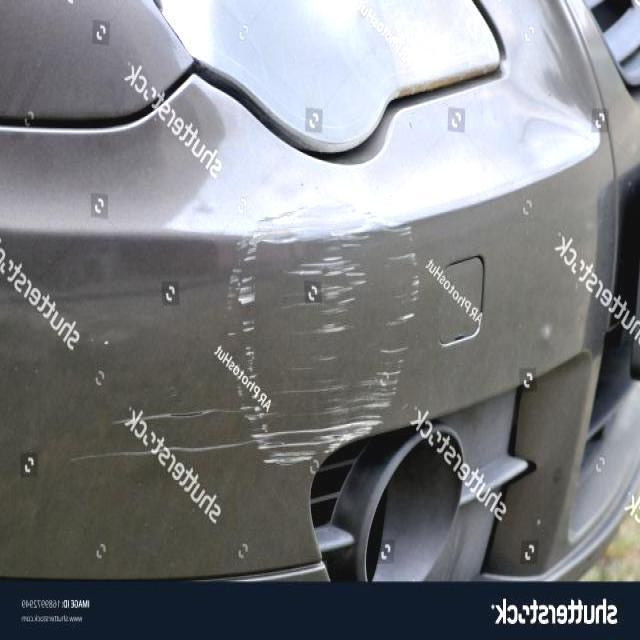minor: (125, 411, 232, 479), (118, 411, 224, 428)
moderate: (218, 227, 418, 467)
